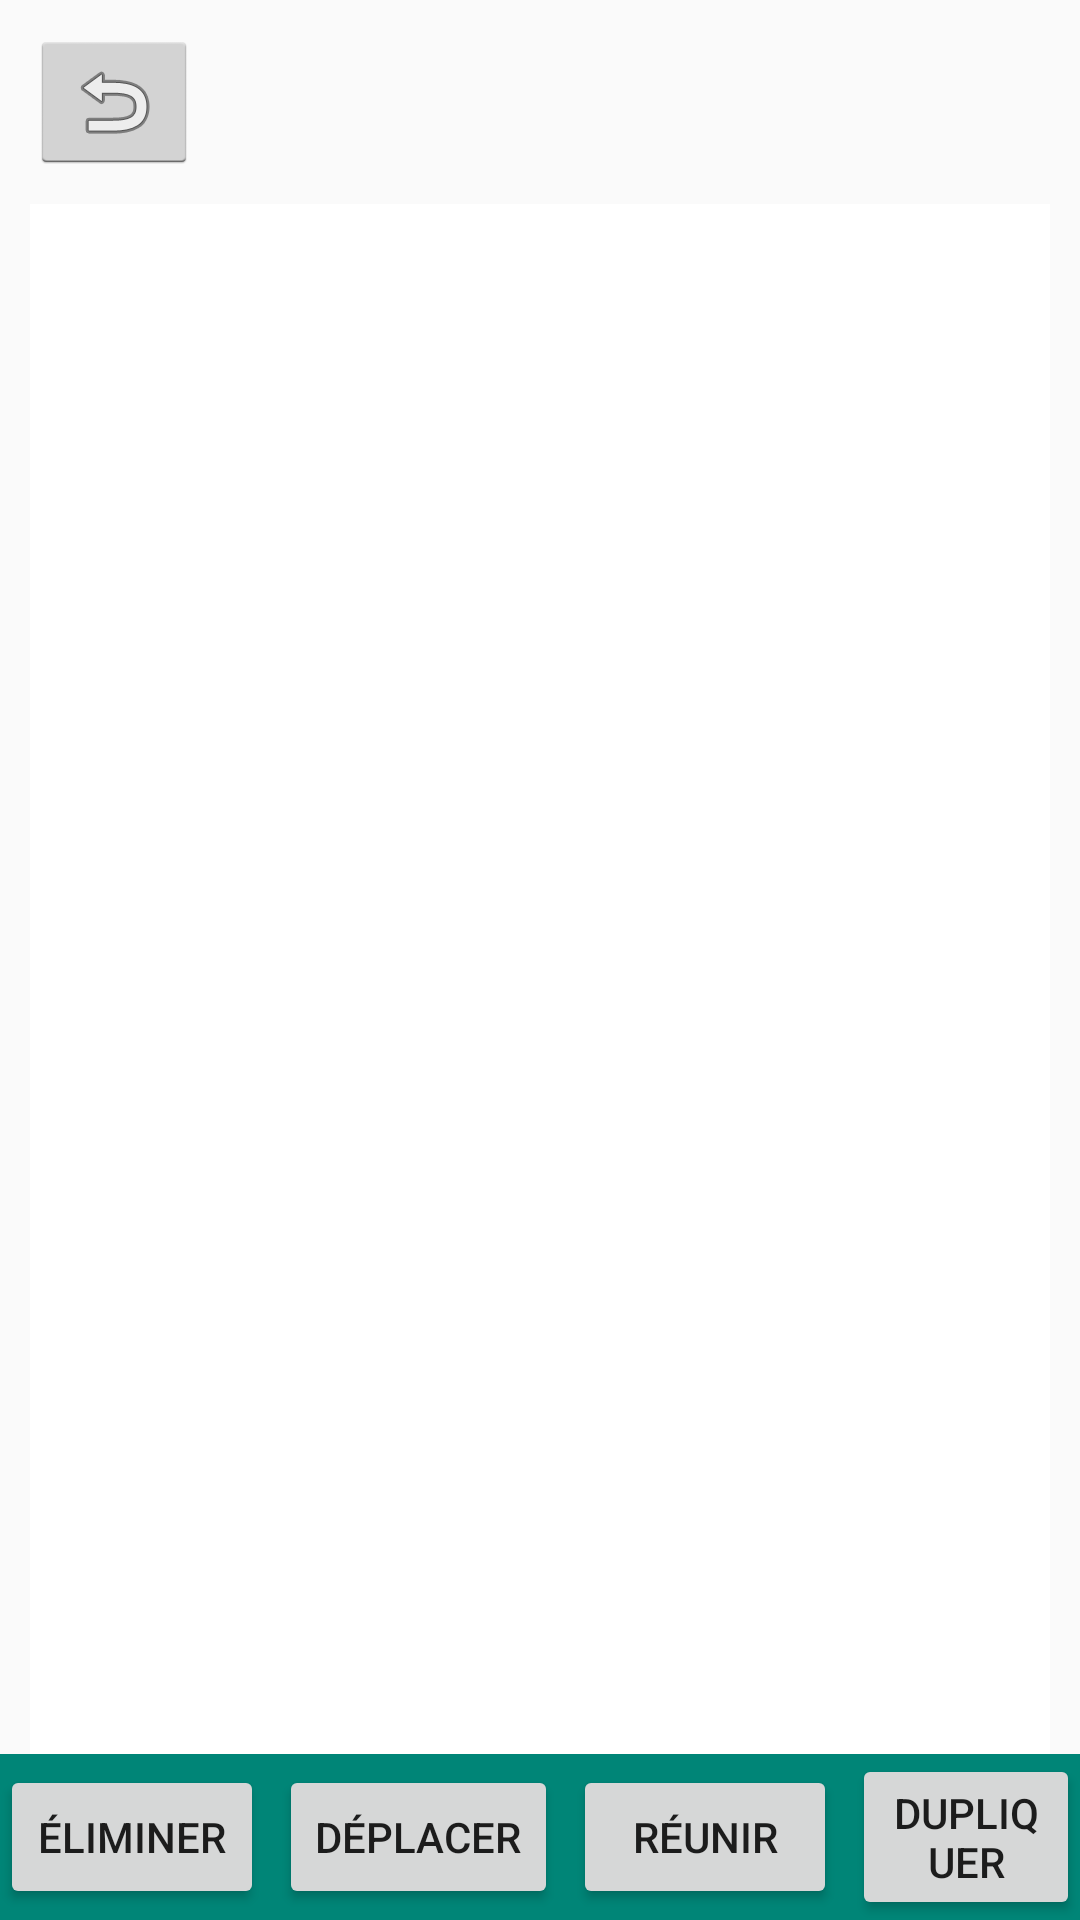

Screen size 1080px×1920px. Icon name, then its center in pixels as [x,y]:
revert: [114,103]
